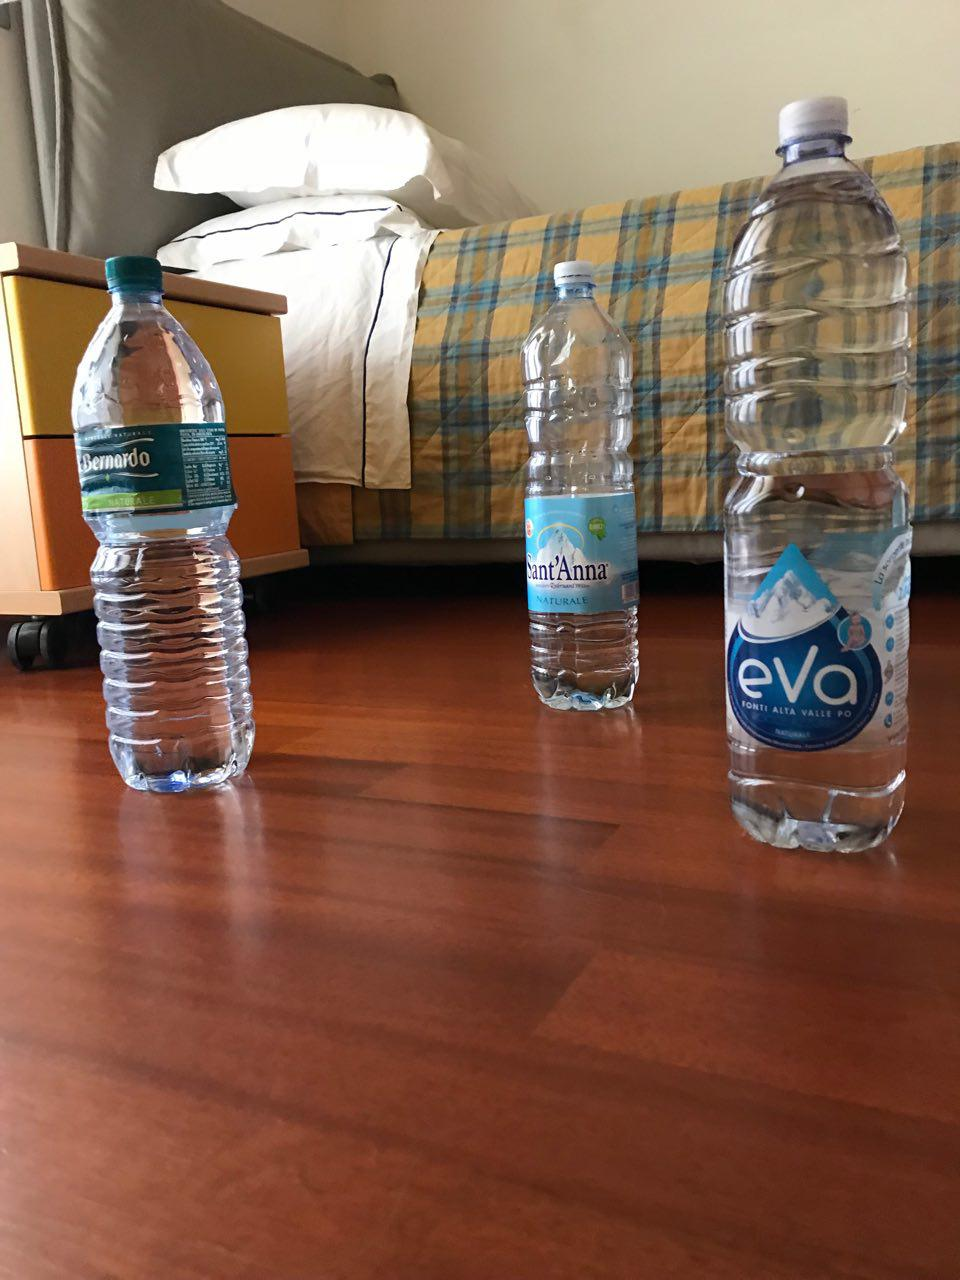san_bernardo: (69, 253, 257, 793)
